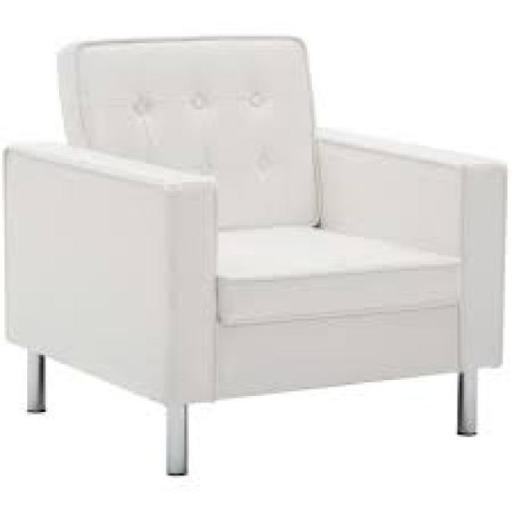sofa: (0, 0, 512, 463)
